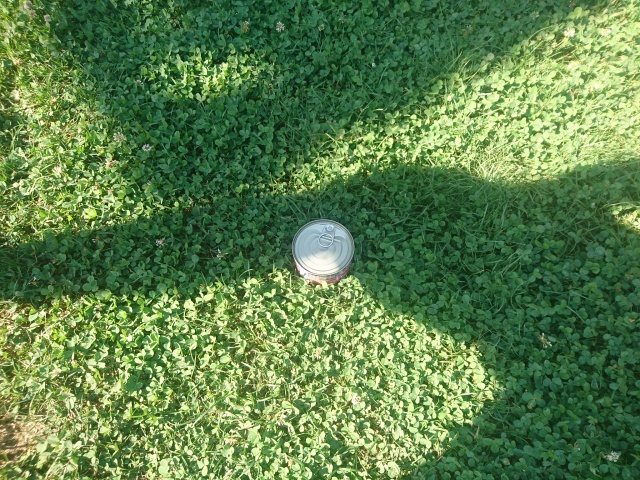Giana Tuna Salad Mexico 185g: (288, 216, 357, 293)
